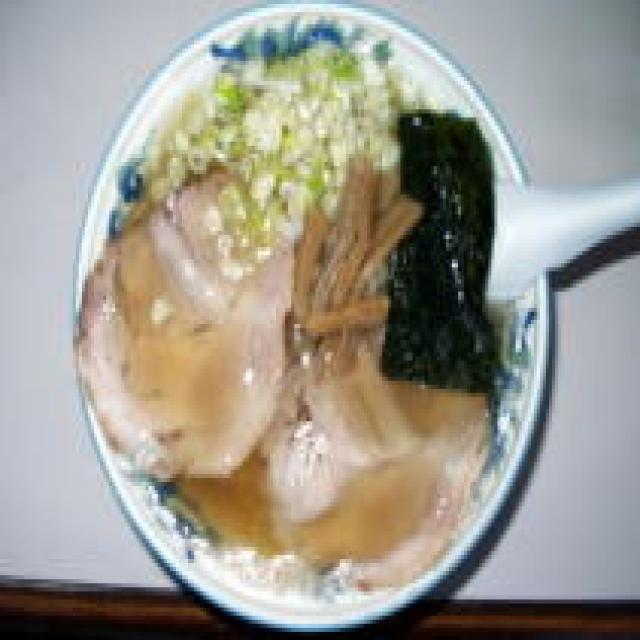面条主食: (67, 0, 552, 640)
